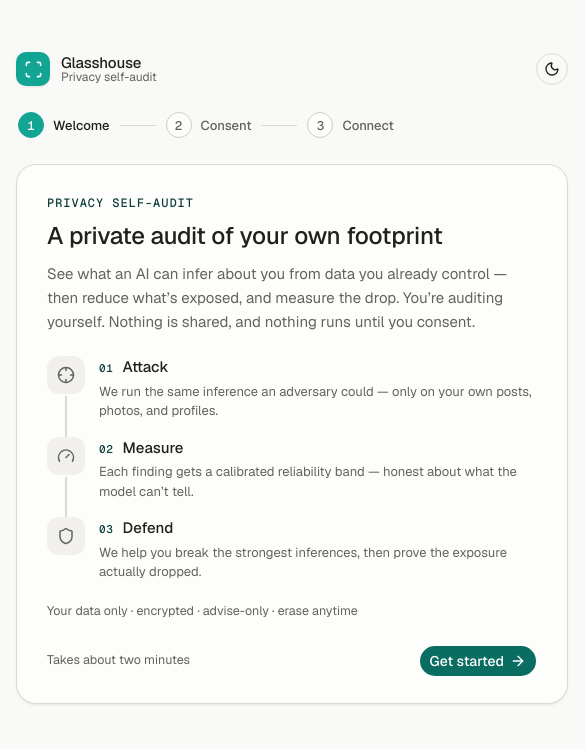
Scenario: OnboardingWizard › failure: says consent was NOT recorded and does not advance
The width and height of the screenshot is (585, 749).
Click the button "Get started" at (478, 661), box [419, 645, 537, 677]
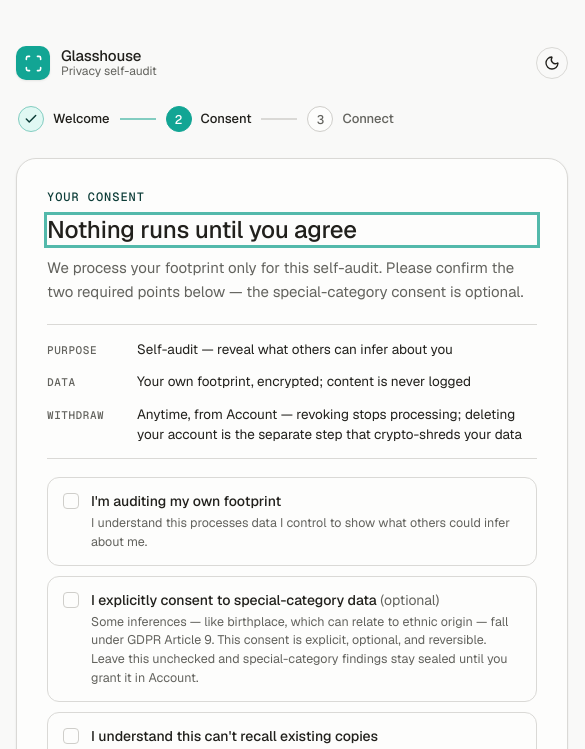
Click the checkbox named "auditing my own footprint" next to "I'm auditing my own footprint" at (71, 501), box [63, 493, 79, 509]
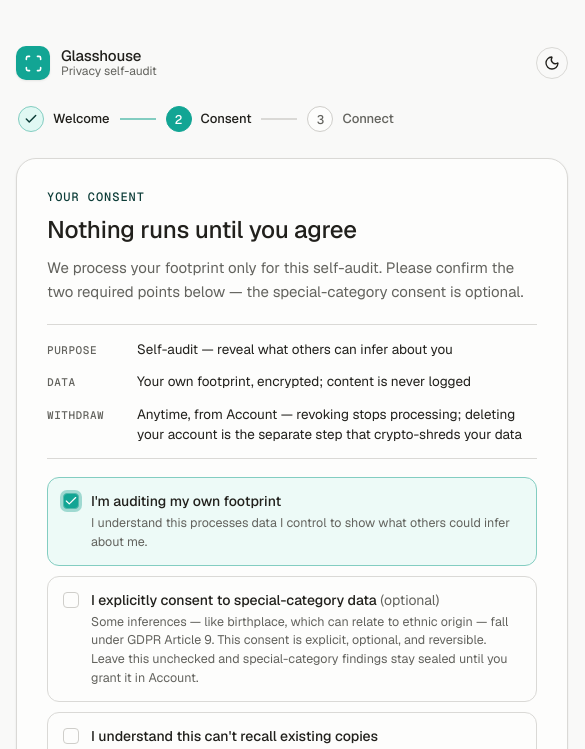
Click the 3rd checkbox named "can't recall existing copies" at (71, 736), box [63, 728, 79, 744]
(page scrolled)
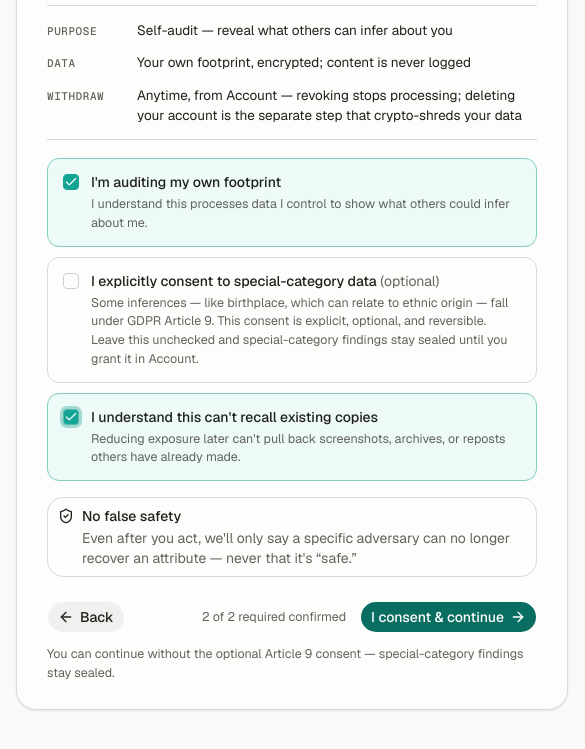
Click the button "I consent & continue" at (449, 617), box [360, 601, 537, 633]
(page scrolled)
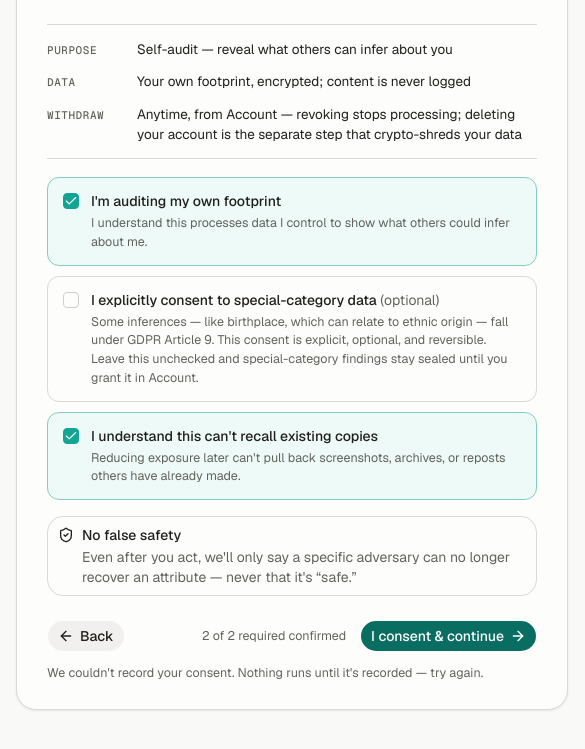
Result: the text "couldn't record your consent" is shown at [47, 664, 483, 681]
